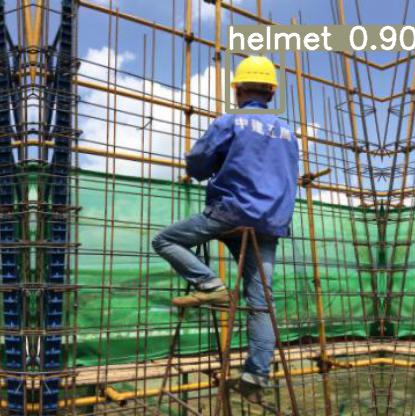helmet: (227, 50, 282, 111)
